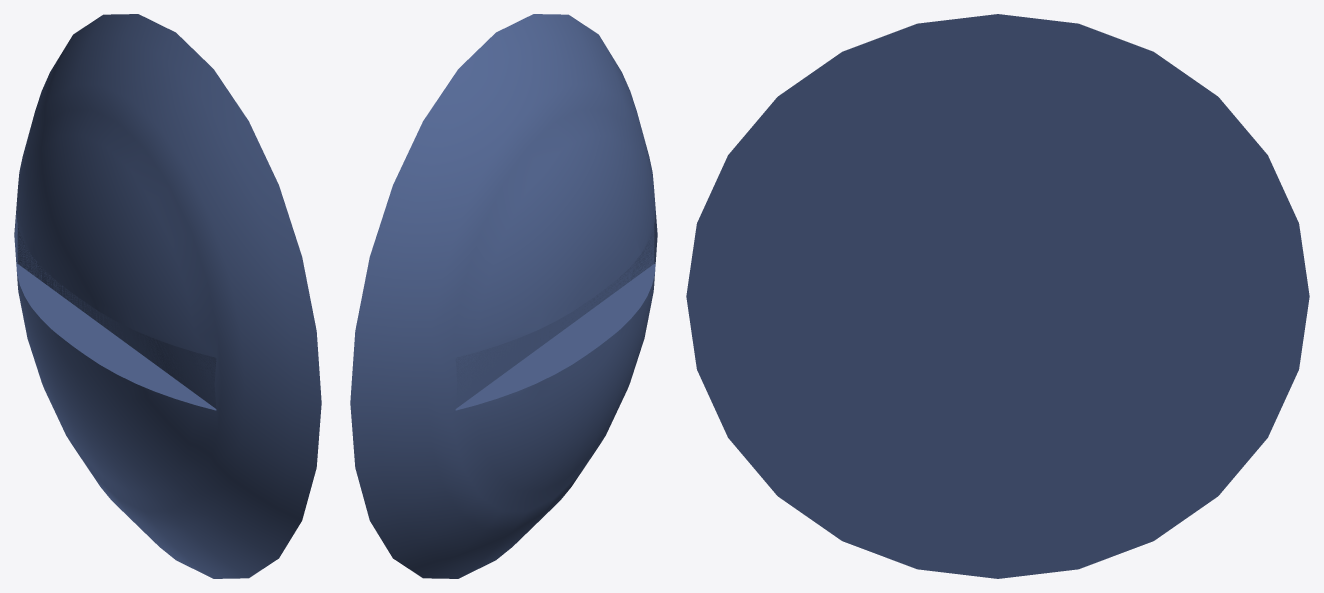
Rendered from original-447.obj.
3 views of the same model, side by side, from view 1: azimuth 30°, elevation 25°; view 2: azimuth 150°, elevation 25°; view 3: azimuth 270°, elevation 25° (orthographic). The views are drawn at different scales.
Visible parts, largest first — view 1: Group48/mesh276/mesh276-geometry#mesh276-geometry; view 2: Group48/mesh276/mesh276-geometry#mesh276-geometry; view 3: Group48/mesh276/mesh276-geometry#mesh276-geometry.
Boxes of the visible parts, <box> form: Group48/mesh276/mesh276-geometry#mesh276-geometry: <box>14,14,321,578</box>; Group48/mesh276/mesh276-geometry#mesh276-geometry: <box>350,14,657,578</box>; Group48/mesh276/mesh276-geometry#mesh276-geometry: <box>686,14,1309,578</box>.
Bounding box in the file's own units: 0.00474 × 0.0236 × 0.0236.
